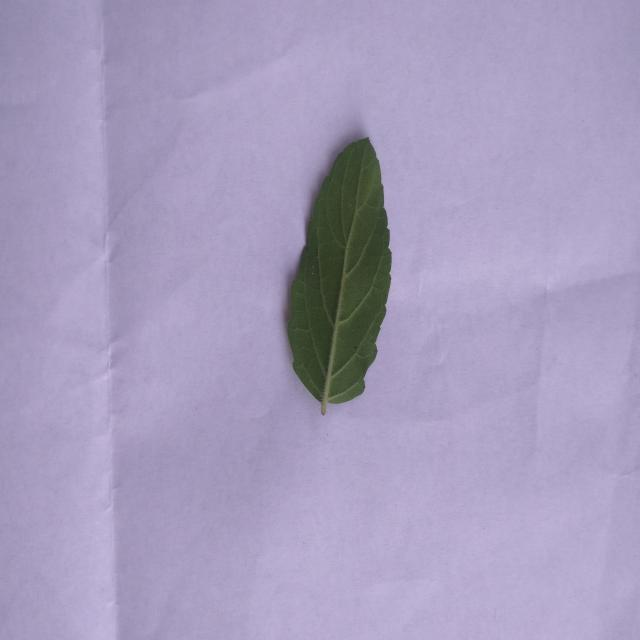tulsi: (288, 138, 391, 416)
